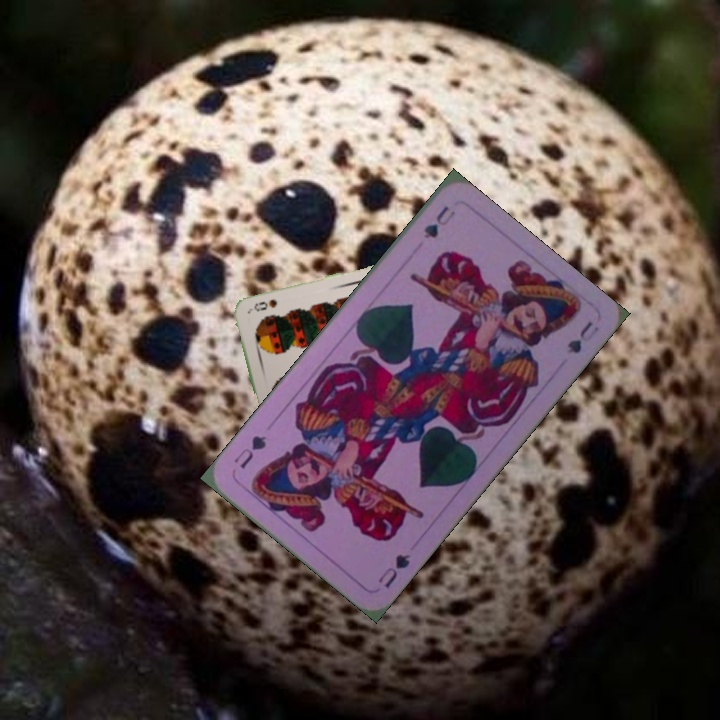GU: (373, 550, 413, 591), (419, 201, 459, 242)
